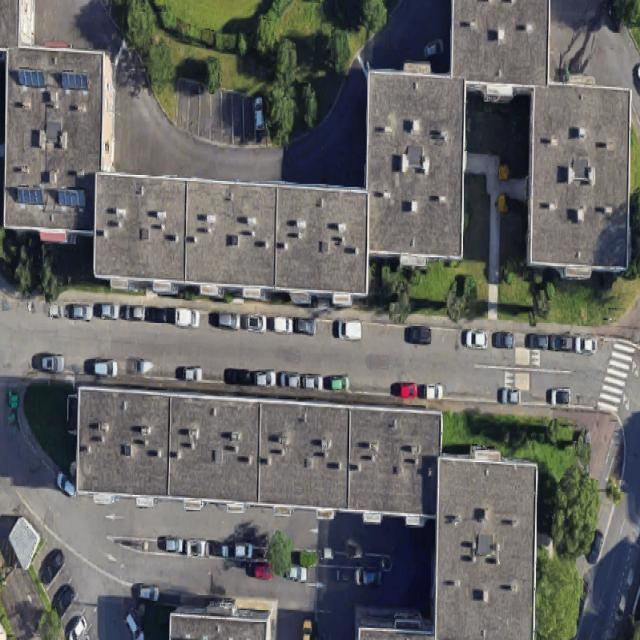immeuble: (70, 385, 444, 523), (89, 173, 373, 305), (0, 48, 114, 238), (431, 447, 537, 640), (362, 70, 466, 266), (527, 84, 630, 278), (451, 0, 549, 82)
